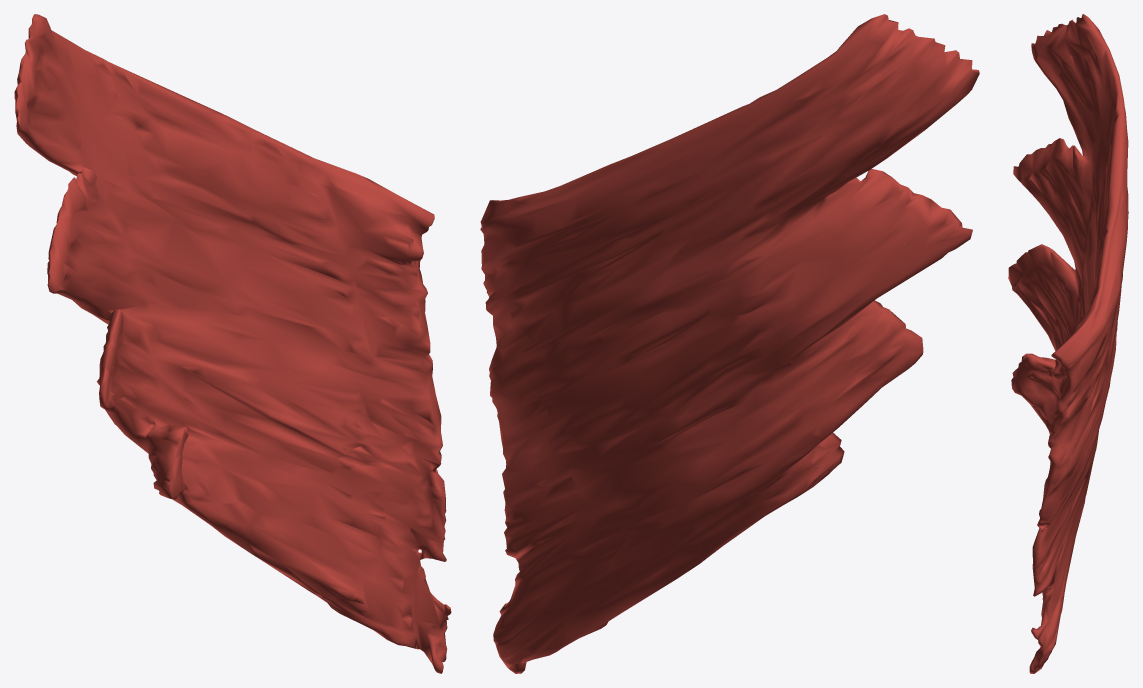
File: musculos-serratus-posterior-inferior-muscle-r.glb
3 views of the same model, side by side, from view 1: azimuth 30°, elevation 25°; view 2: azimuth 150°, elevation 25°; view 3: azimuth 270°, elevation 25° (orthographic). The views are drawn at different scales.
Parts seen in each view (by area): view 1: Serratus posterior inferior muscle.r; view 2: Serratus posterior inferior muscle.r; view 3: Serratus posterior inferior muscle.r.
Boxes of the visible parts, bbox=[...] form: Serratus posterior inferior muscle.r: bbox=[14, 14, 451, 673]; Serratus posterior inferior muscle.r: bbox=[480, 14, 979, 673]; Serratus posterior inferior muscle.r: bbox=[1008, 14, 1128, 673].
Bounding box in the file's own units: 0.1133 × 0.1786 × 0.0369.
